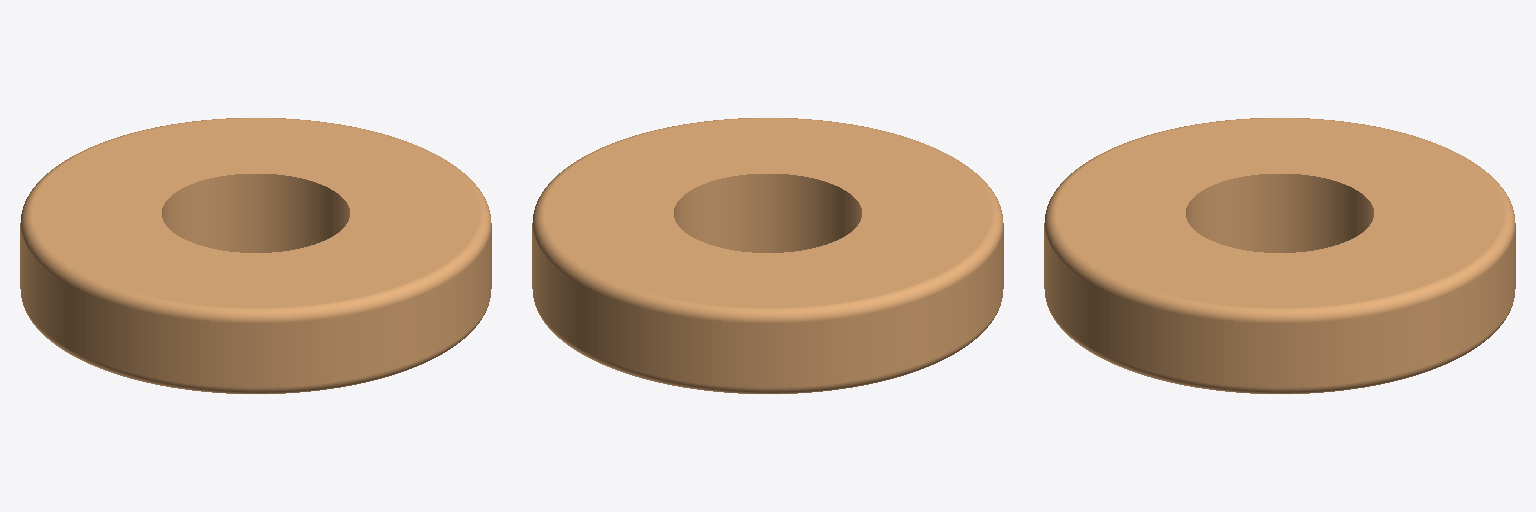
URDF robot description (cylindrical_wp_large):
<?xml version="1.0"?>
<robot name="cylindrical_wp_large">
    <link name="cylindrical_wp_large_origin">
        <visual>
            <geometry>
                <mesh filename="package://process_visualiser/resources/meshes_resized/cylindrical_wp_80mm.stl"
                      scale="1 1 1"/>
            </geometry>
            <material name="ABS" >
                <color rgba="0.9 0.7 0.5 1.0" />
            </material>
        </visual>
        <inertial>
            <origin xyz="0 0 0" rpy="0 0 0"/>
            <mass value="1"/>
            <inertia
                    ixx="1.0" ixy="0.0" ixz="0.0"
                    iyy="1.0" iyz="0.0"
                    izz="1.0"/>
        </inertial>

    </link>
    <link name="world"/>

    <joint name="fixed" type="fixed">
        <parent link="world"/>
        <child link="cylindrical_wp_large_origin"/>
    </joint>

    <gazebo reference="cylindrical_wp_large_origin">
        <material>Gazebo/Yellow</material>
    </gazebo>

</robot>

--- What the picture shows (computed from the rendered views, not written in the file) ---
The picture shows the robot from 3 angles, left to right: view 1: azimuth 30°, elevation 25°; view 2: azimuth 150°, elevation 25°; view 3: azimuth 270°, elevation 25°; orthographic projection.
Robot: cylindrical_wp_large — 2 links, 1 joints (1 fixed); root link world; default pose: all joints at 0.
Visible links, largest first — view 1: cylindrical_wp_large_origin; view 2: cylindrical_wp_large_origin; view 3: cylindrical_wp_large_origin.
Boxes of the visible links, x1,y1,x2,y2 form: cylindrical_wp_large_origin: (20,118,491,393); cylindrical_wp_large_origin: (532,118,1003,393); cylindrical_wp_large_origin: (1044,118,1515,393).
Size in the robot's own frame: 0.2 by 0.2 by 0.04 metres.
Meshes: 1 distinct files referenced, 1 mesh visuals loaded (1 binary STL).